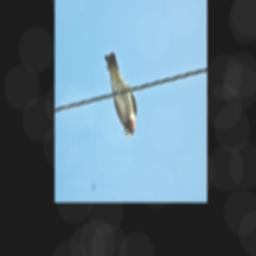Swallow: (103, 51, 137, 138)
